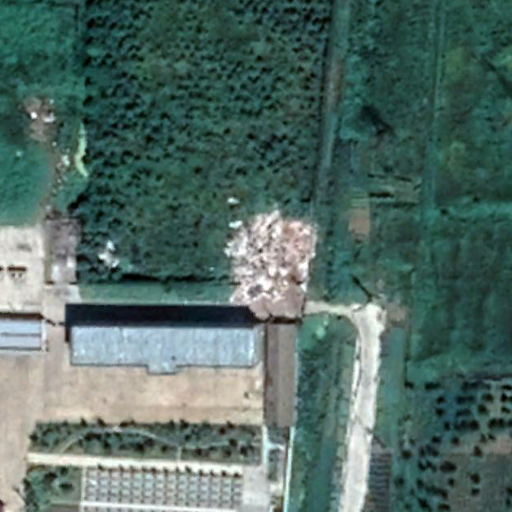msw: (228, 216, 310, 299)
